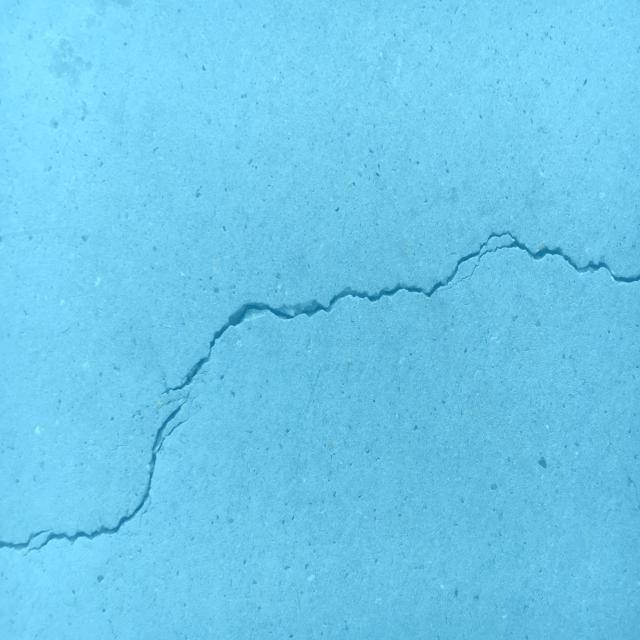crack: (161, 230, 640, 396), (0, 391, 198, 557), (603, 426, 640, 512)
